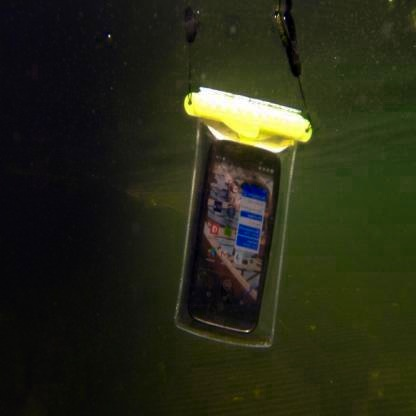cellphone: (191, 139, 281, 333)
